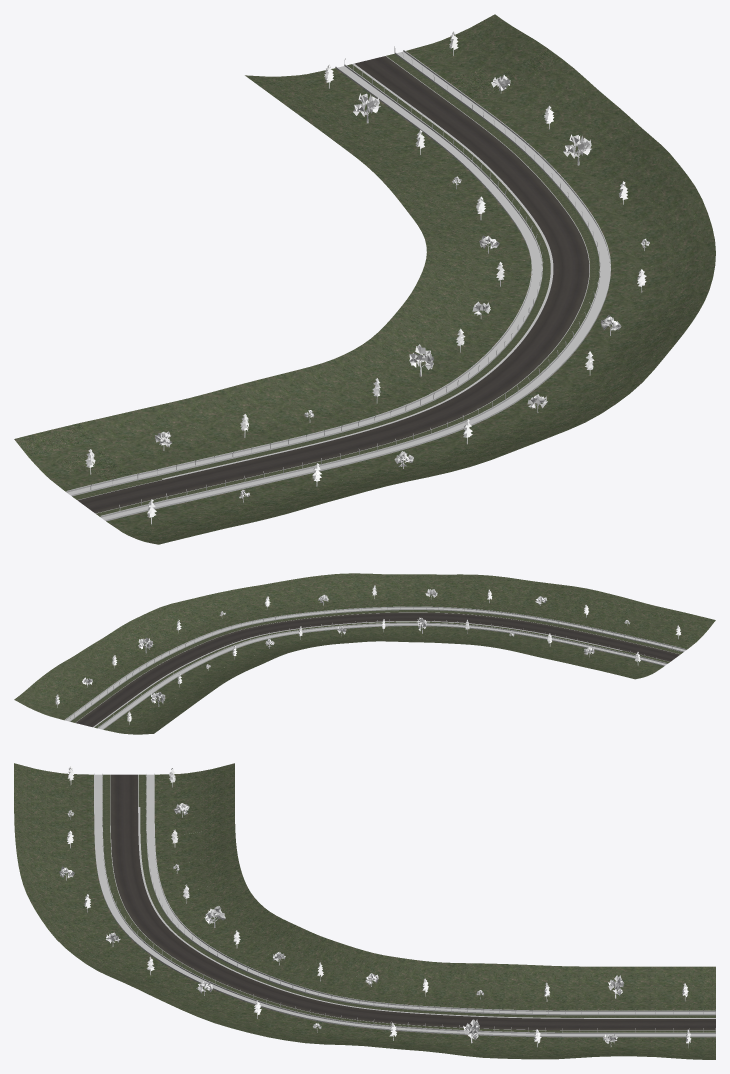
3 views of the same model, one above another, from view 1: azimuth 30°, elevation 25°; view 2: azimuth 150°, elevation 25°; view 3: azimuth 270°, elevation 25° (orthographic). The views are drawn at different scales.
Visible parts, largest first — view 1: Grass, Road, Track, Trees; view 2: Grass, Track, Road, Trees; view 3: Grass, Road, Track, Trees.
Boxes of the visible parts, x1=… form: Grass: x1=14, y1=14, x2=715, y2=544; Road: x1=77, y1=56, x2=589, y2=513; Track: x1=66, y1=46, x2=610, y2=521; Trees: x1=85, y1=31, x2=649, y2=524; Grass: x1=14, y1=573, x2=715, y2=734; Track: x1=65, y1=606, x2=686, y2=729; Road: x1=76, y1=612, x2=680, y2=727; Trees: x1=55, y1=585, x2=680, y2=724; Grass: x1=14, y1=763, x2=715, y2=1059; Road: x1=110, y1=774, x2=715, y2=1030; Track: x1=94, y1=773, x2=715, y2=1037; Trees: x1=59, y1=766, x2=691, y2=1047.
Size of what is drawn, in the model's own units: 44500 by 2207 by 44500.
